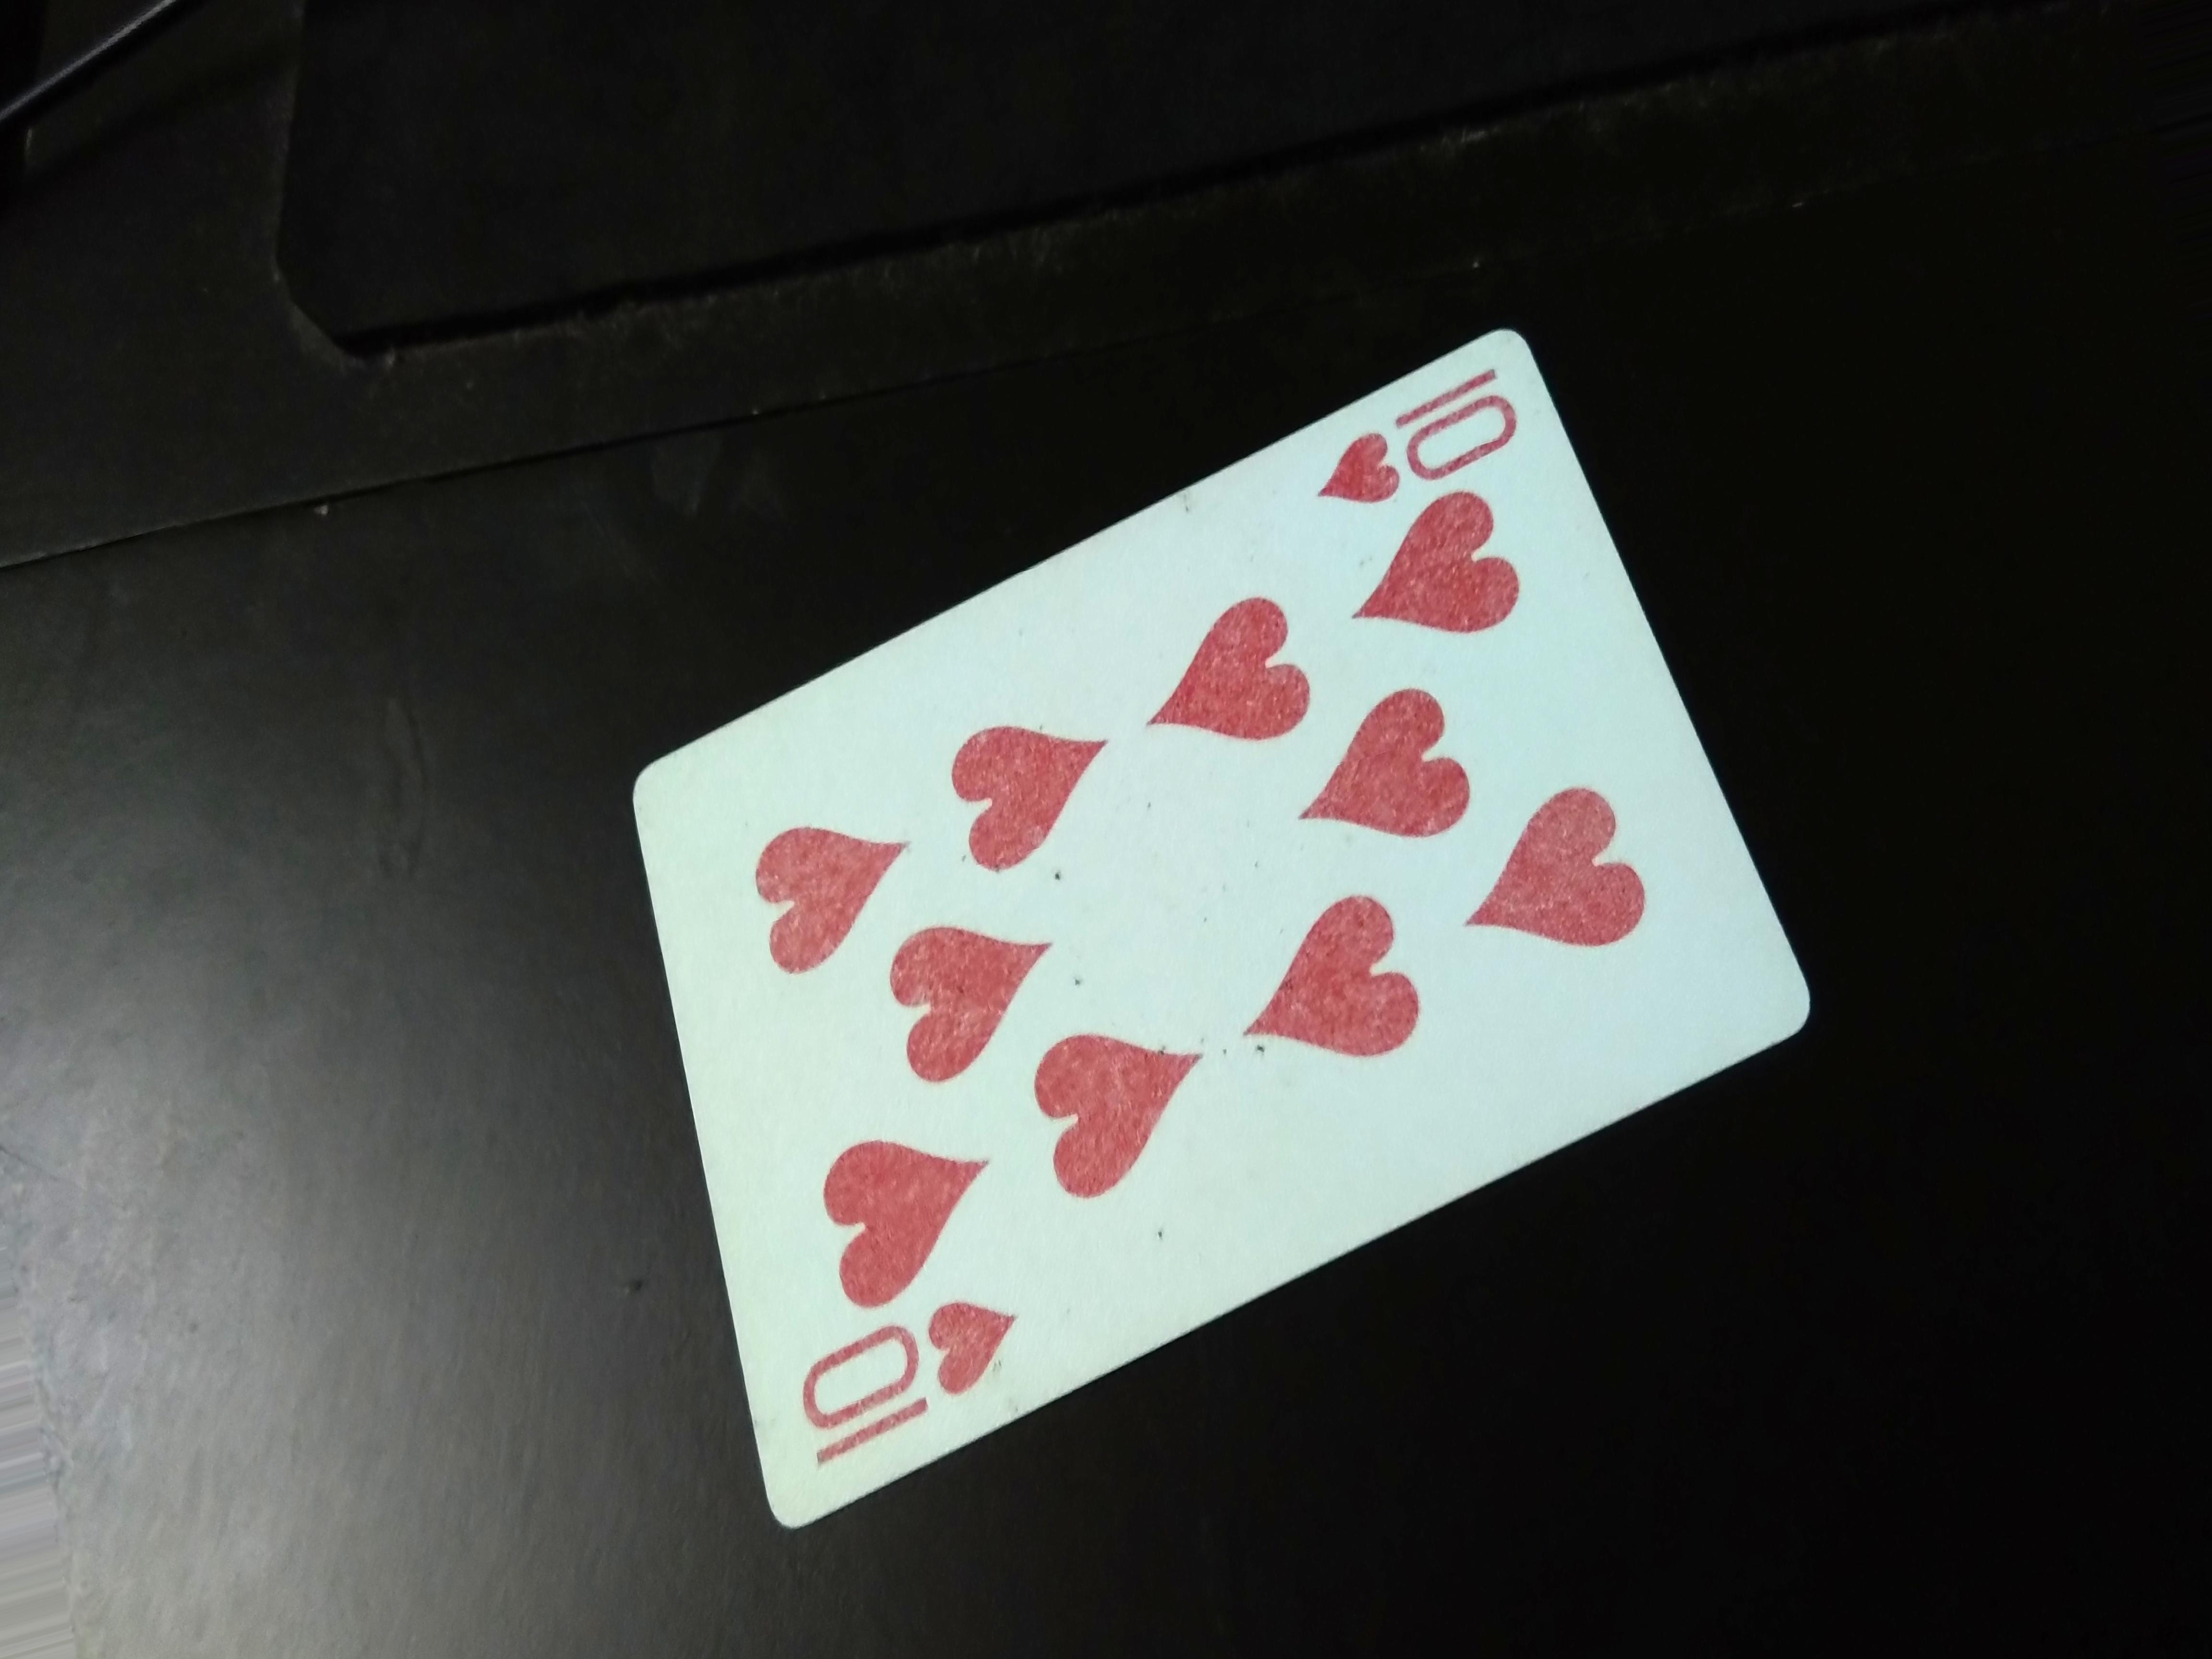10H: (1308, 361, 1522, 512)
